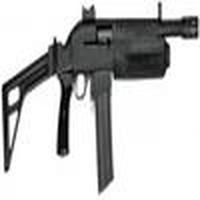gun: (1, 18, 200, 179)
